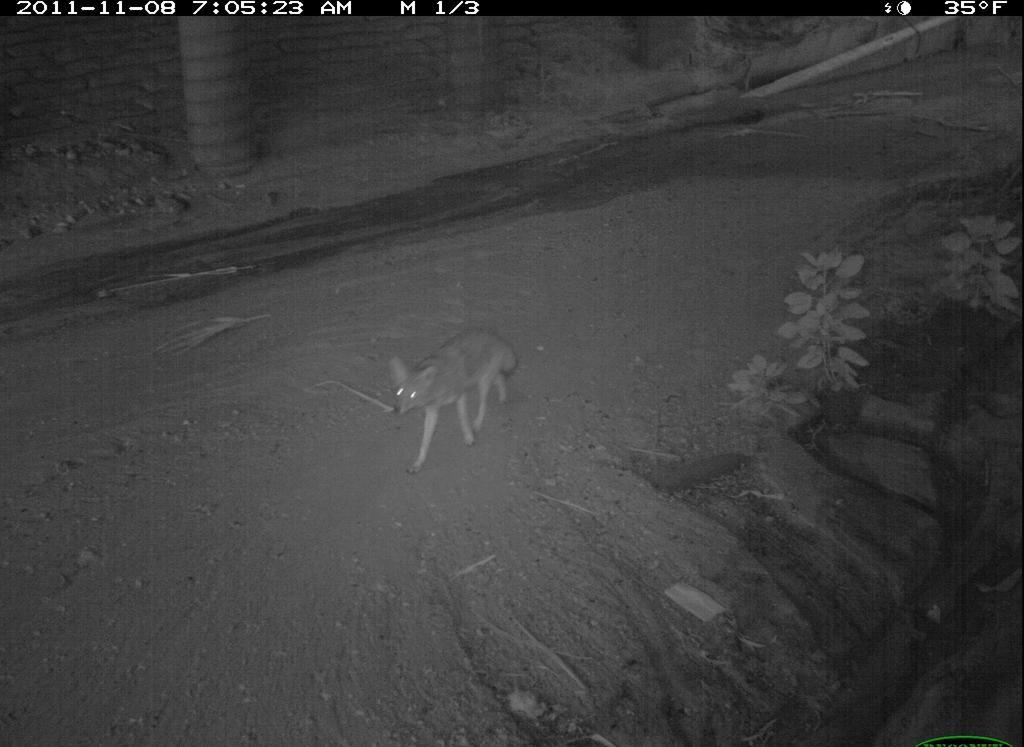coyote: (374, 313, 537, 487)
